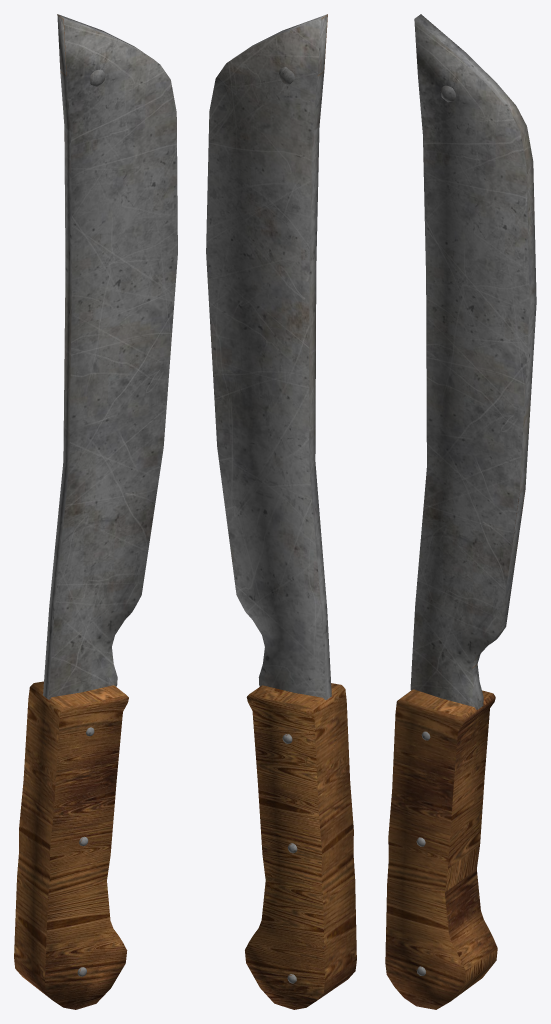
The model's file is Knife.fbx.
The picture shows the model from 3 angles, left to right: view 1: azimuth 30°, elevation 25°; view 2: azimuth 150°, elevation 25°; view 3: azimuth 330°, elevation 25°; orthographic projection.
Parts seen in each view (by area): view 1: Knife; view 2: Knife; view 3: Knife.
Part boxes in pixels (left/top/right/bottom): Knife: left=14, top=14, right=177, bottom=1009; Knife: left=206, top=14, right=356, bottom=1009; Knife: left=385, top=14, right=536, bottom=1009.
Size of the model in its own units: 12.83 by 86.97 by 5.77.
